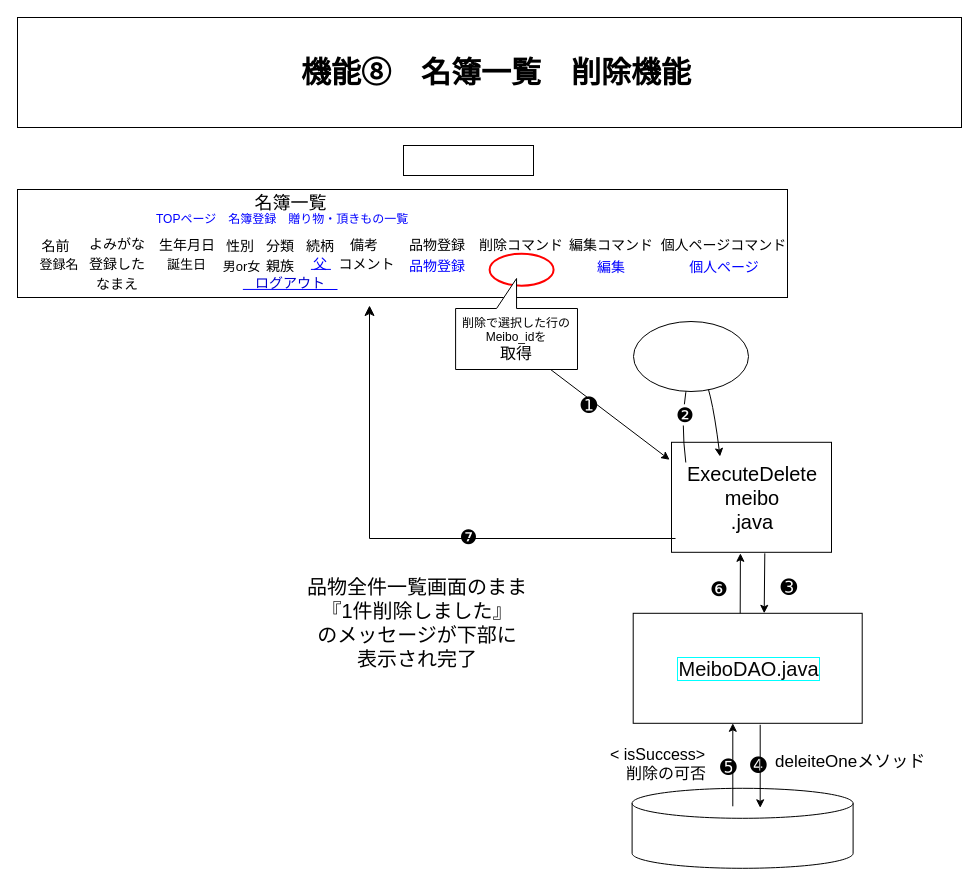
Some shapes in this 979 by 886 pixel diagram are drawn without their labels. The centre of each missing label's shape, as x and y in pixels:
showallmeibo.jsp: pixel 468 160
SQL: pixel 742 827
セッション スコープ: pixel 690 356
削除: pixel 521 269
